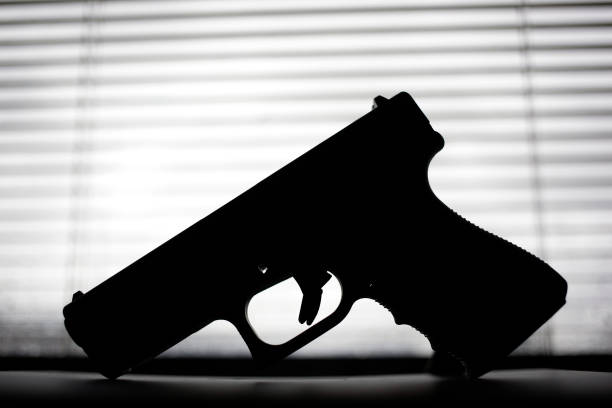pistol: (58, 89, 576, 392)
